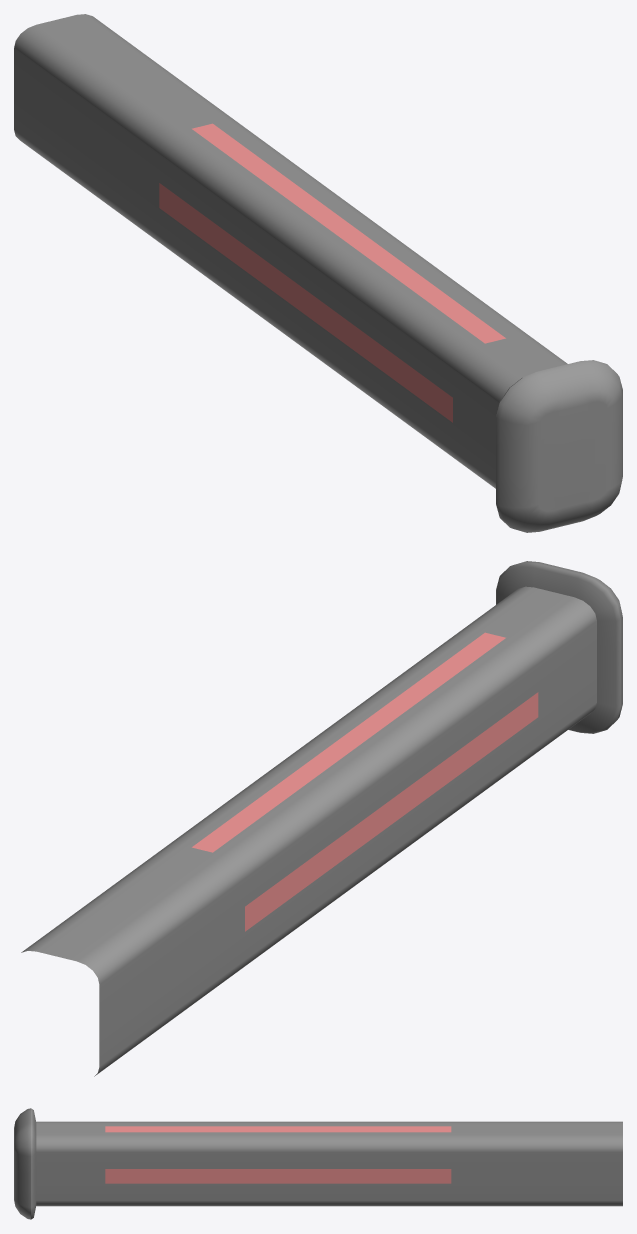
The model's file is LaserPowerCoord_01.gltf.
3 renders of one model, top to bottom at view 1: azimuth 30°, elevation 25°; view 2: azimuth 150°, elevation 25°; view 3: azimuth 270°, elevation 25°, orthographic. The views are drawn at different scales.
Parts seen in each view (by area): view 1: LaserPowerCoord_01; view 2: LaserPowerCoord_01; view 3: LaserPowerCoord_01.
Boxes of the visible parts, x1,y1,x2,y2 form: LaserPowerCoord_01: (14,14,622,532); LaserPowerCoord_01: (21,561,622,1076); LaserPowerCoord_01: (14,1108,622,1219).
Bounding box in the file's own units: 0.7208 × 0.8766 × 5.16.
